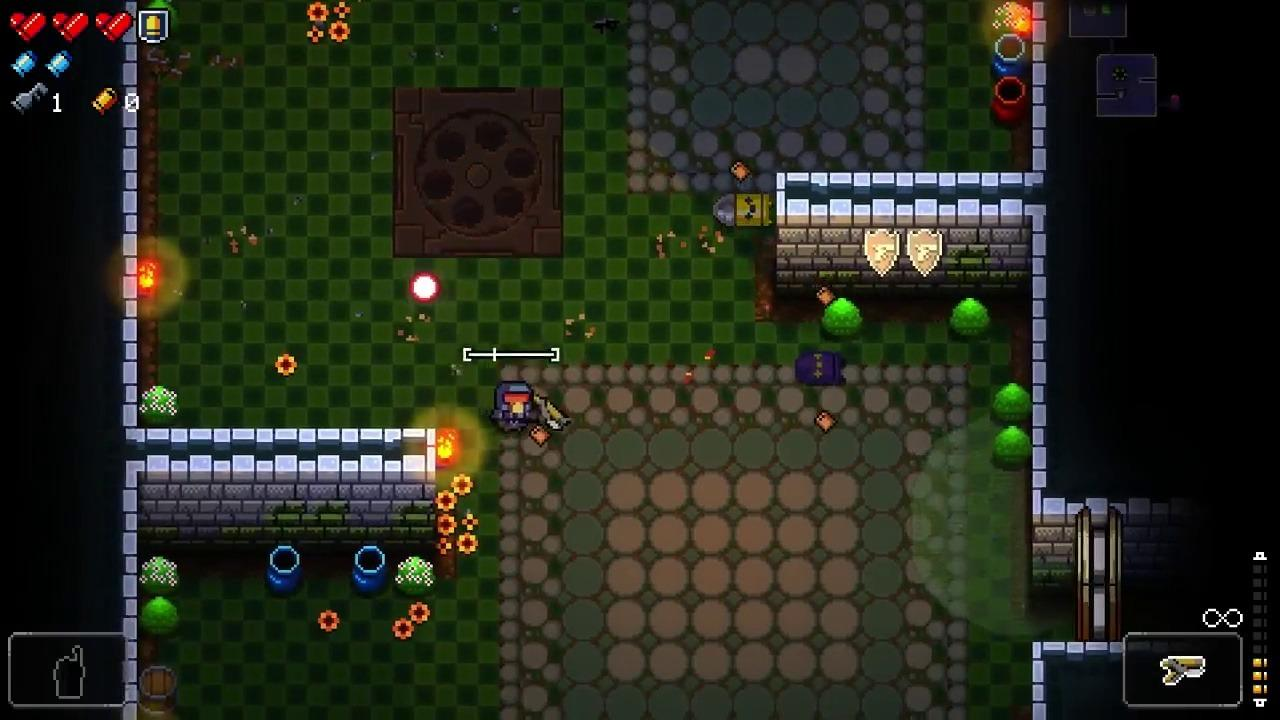bullet: (411, 272, 439, 302)
dead_bullet_kin: (713, 192, 775, 228)
dead_rubber_kin: (796, 351, 850, 386)
locked_door: (1077, 509, 1124, 643)
player: (495, 380, 533, 435)
teleporter: (393, 86, 563, 259)
